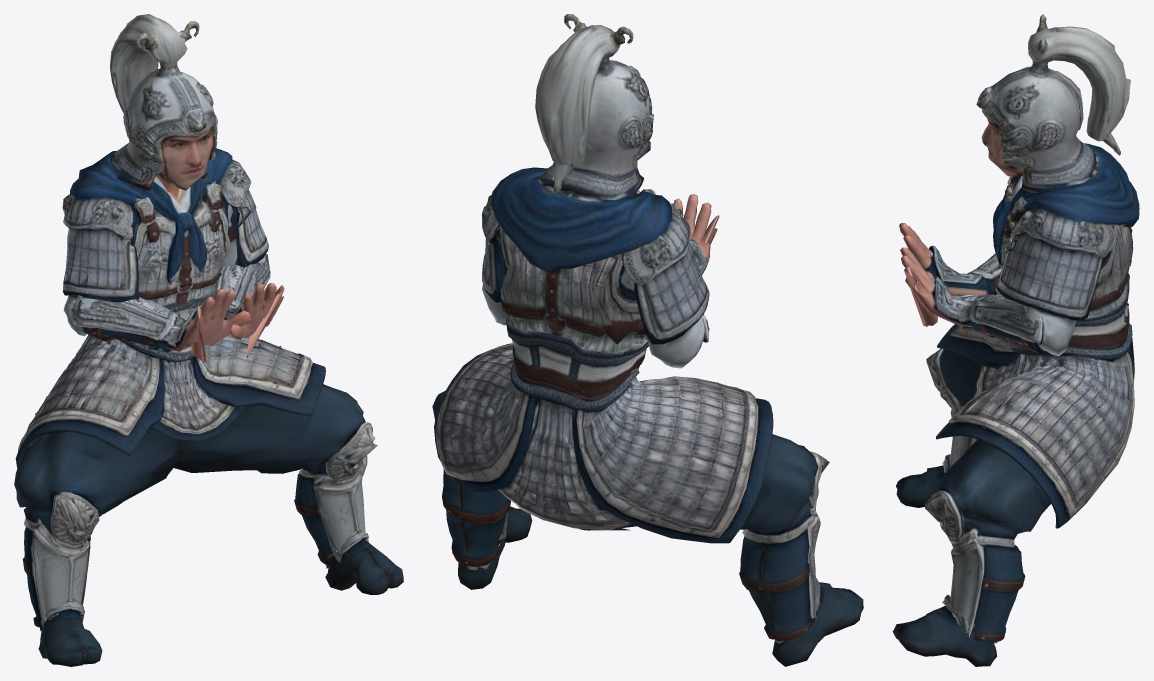
The model's file is zhao-yun.glb.
3 views of the same model, side by side, from view 1: azimuth 30°, elevation 25°; view 2: azimuth 150°, elevation 25°; view 3: azimuth 270°, elevation 25° (orthographic). The views are drawn at different scales.
Size of the model in its own units: 1.18 by 1.84 by 0.7225.
Materials: 1 (1 with a texture image).
